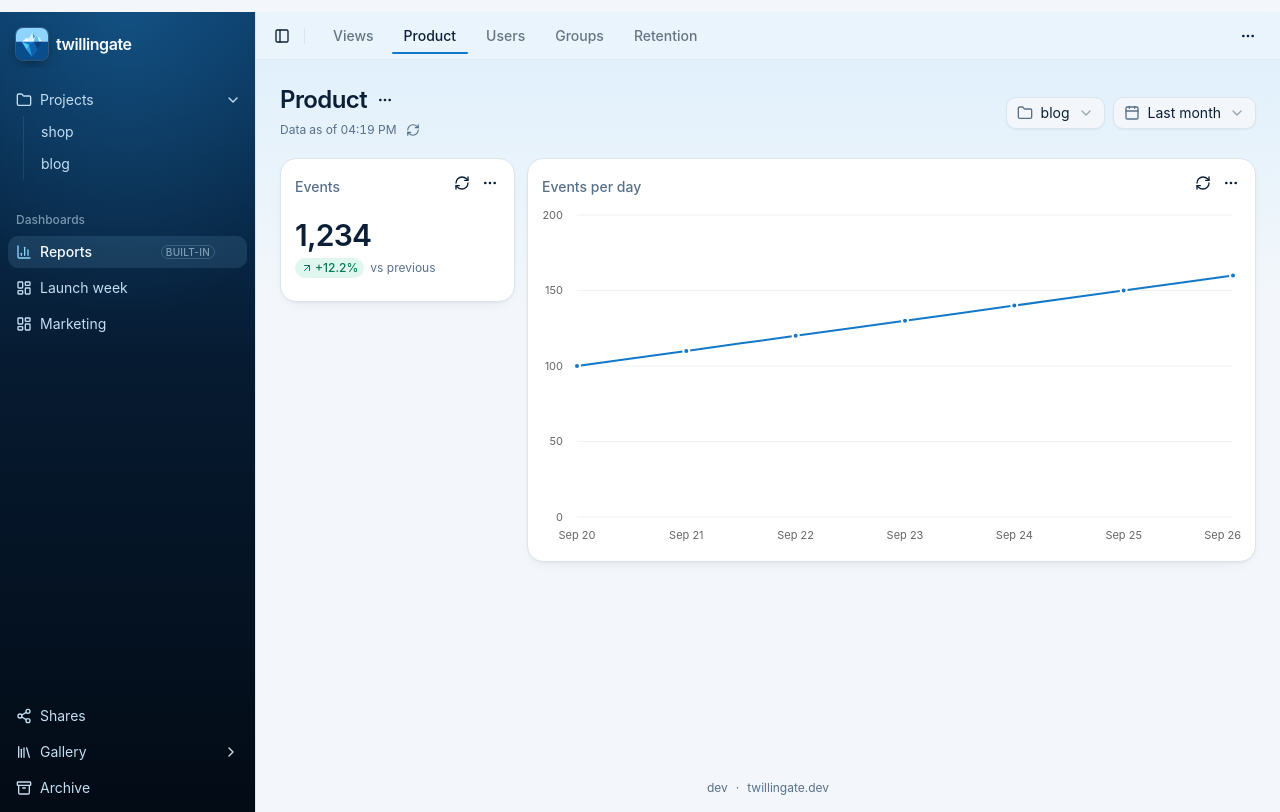
Scenario: Dashboard › carries the selection to the next report tab and saves it there
Click the tab "Users".
click(506, 36)  # box x1=473 y1=21 x2=538 y2=50
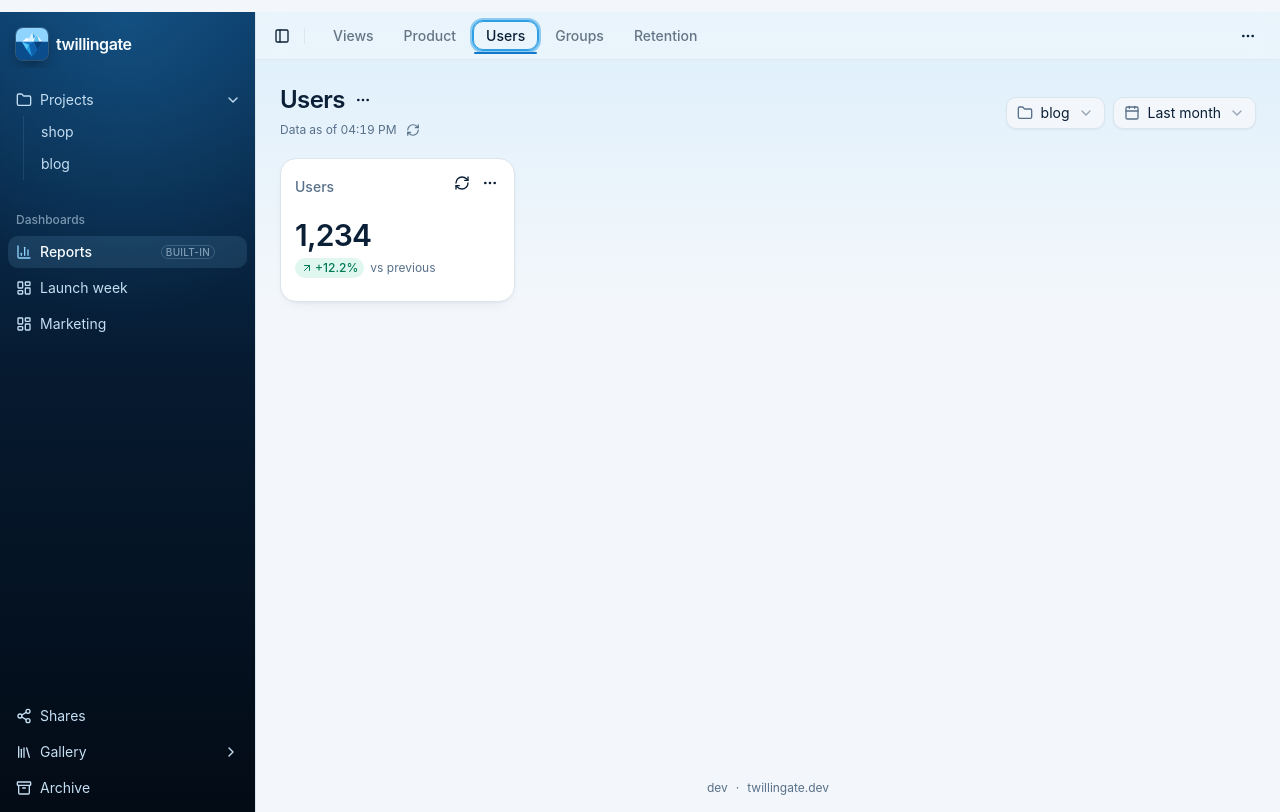
Expected: the button with aria-label "Range: Last month" is shown, x1=1112 y1=97 x2=1256 y2=129
Expected: the 1st heading "Users" is shown, x1=280 y1=84 x2=345 y2=116
